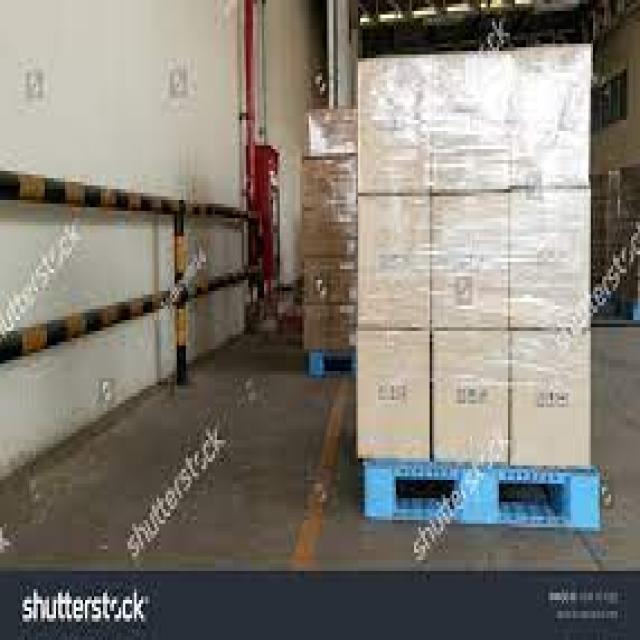cardboxes: (430, 51, 514, 192), (511, 45, 594, 187), (508, 189, 591, 328), (511, 331, 592, 470), (431, 191, 510, 333), (431, 326, 510, 466), (357, 53, 434, 196), (356, 328, 432, 462), (357, 195, 431, 332)
